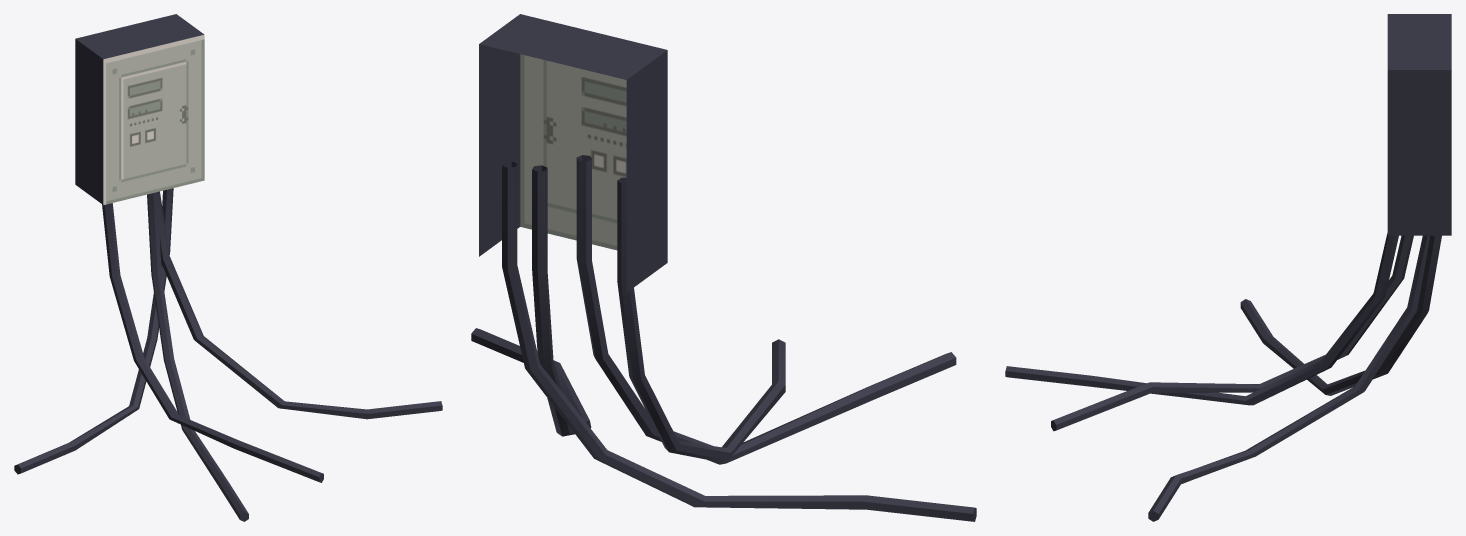
File: cableBox.fbx
The picture shows the model from 3 angles, left to right: view 1: azimuth 30°, elevation 25°; view 2: azimuth 150°, elevation 25°; view 3: azimuth 270°, elevation 25°; orthographic projection. The views are drawn at different scales.
Parts seen in each view (by area): view 1: cableBox; view 2: cableBox; view 3: cableBox.
Boxes of the visible parts, x1,y1,x2,y2 form: cableBox: (14, 14, 442, 521); cableBox: (471, 14, 976, 521); cableBox: (1005, 14, 1451, 521).
Size of the model in its own units: 276 by 229 by 244.
